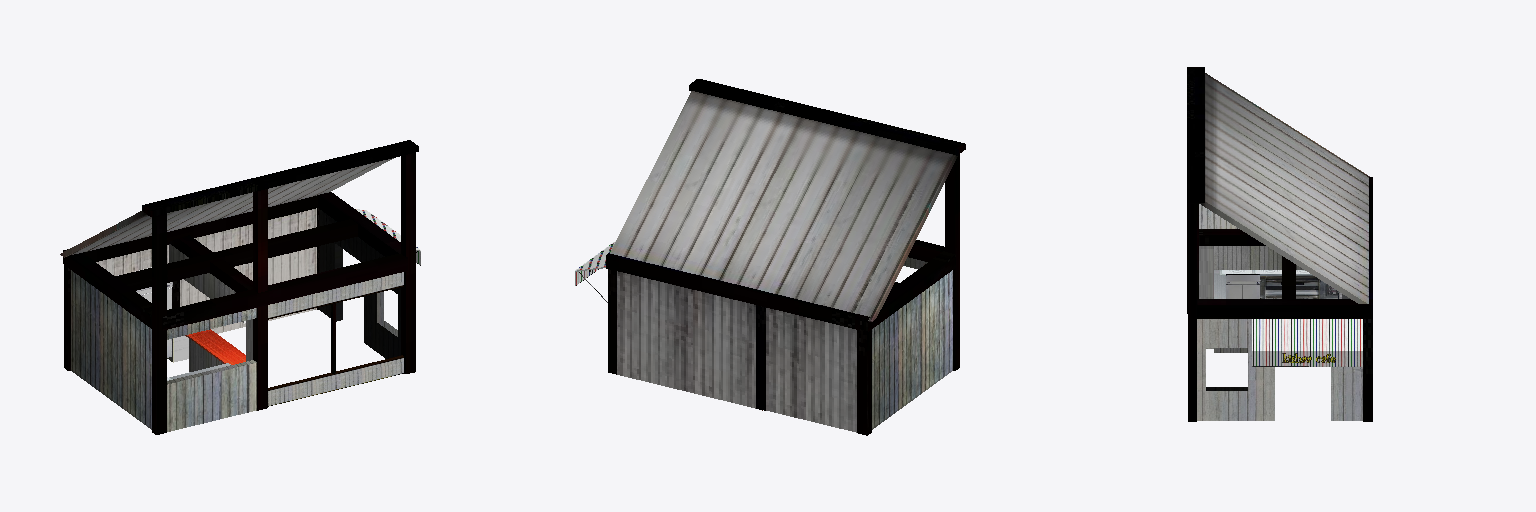
3 views of the same model, side by side, from view 1: azimuth 30°, elevation 25°; view 2: azimuth 150°, elevation 25°; view 3: azimuth 270°, elevation 25° (orthographic).
Bounding box in the file's own units: 8.25 × 5.98 × 4.38.
1 materials, 1 textured.